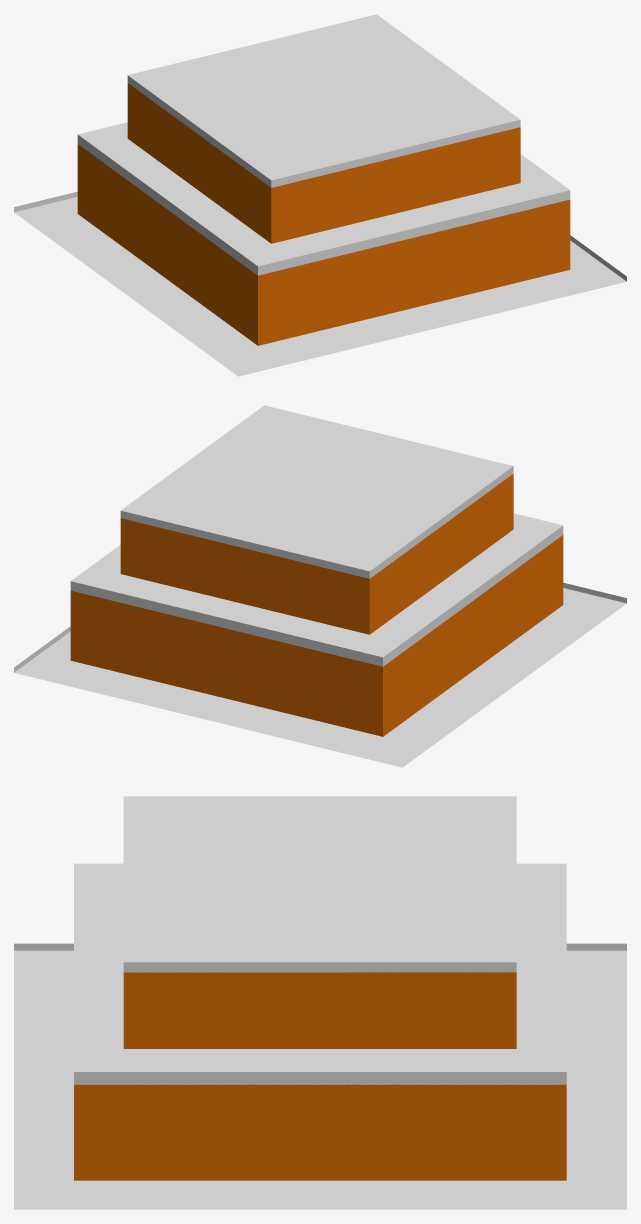
File: CAKEC2layers.glb
3 views of the same model, one above another, from view 1: azimuth 30°, elevation 25°; view 2: azimuth 150°, elevation 25°; view 3: azimuth 270°, elevation 25° (orthographic). The views are drawn at different scales.
Parts seen in each view (by area): view 1: base bot 3; view 2: base bot 3; view 3: base bot 3.
Part boxes in pixels (x1,y1,x2,y2): base bot 3: (14, 14, 626, 376); base bot 3: (14, 405, 626, 767); base bot 3: (14, 796, 626, 1209).
Size of the model in its own units: 2 by 0.7322 by 2.
